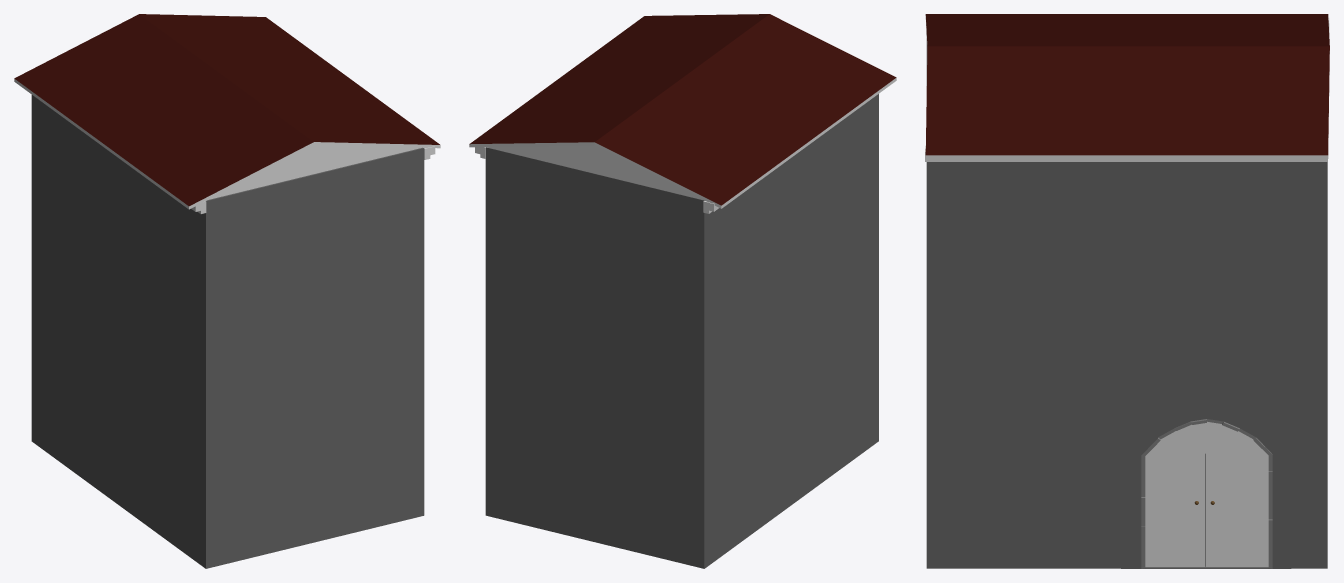
The model's file is porteCave.glb.
The picture shows the model from 3 angles, left to right: view 1: azimuth 30°, elevation 25°; view 2: azimuth 150°, elevation 25°; view 3: azimuth 270°, elevation 25°; orthographic projection. The views are drawn at different scales.
Visible parts, largest first — view 1: Maison, Toit; view 2: Maison, Toit; view 3: Maison, Toit, EmplacementporteGrosse, Emplacementporte, EmplacementFenêtre3, EmplacementFenêtre4, EmplacementFenêtre6, EmplacementFenêtre, EmplacementFenêtre2, EmplacementFenêtre5, EmplacementFenêtreMid.
Part boxes in pixels (bbox=[...]): Maison: bbox=[31, 95, 424, 568]; Toit: bbox=[14, 14, 440, 213]; Maison: bbox=[485, 94, 878, 568]; Toit: bbox=[469, 14, 896, 213]; Maison: bbox=[926, 38, 1327, 568]; Toit: bbox=[925, 14, 1329, 161]; EmplacementporteGrosse: bbox=[1121, 384, 1291, 568]; Emplacementporte: bbox=[991, 412, 1105, 568]; EmplacementFenêtre3: bbox=[938, 297, 1007, 386]; EmplacementFenêtre4: bbox=[1089, 297, 1158, 386]; EmplacementFenêtre6: bbox=[1208, 297, 1274, 384]; EmplacementFenêtre: bbox=[1089, 178, 1158, 258]; EmplacementFenêtre2: bbox=[938, 178, 1007, 258]; EmplacementFenêtre5: bbox=[1208, 178, 1274, 258]; EmplacementFenêtreMid: bbox=[1021, 175, 1075, 258].
Size of the model in its own units: 5.74 by 8.73 by 6.95.
